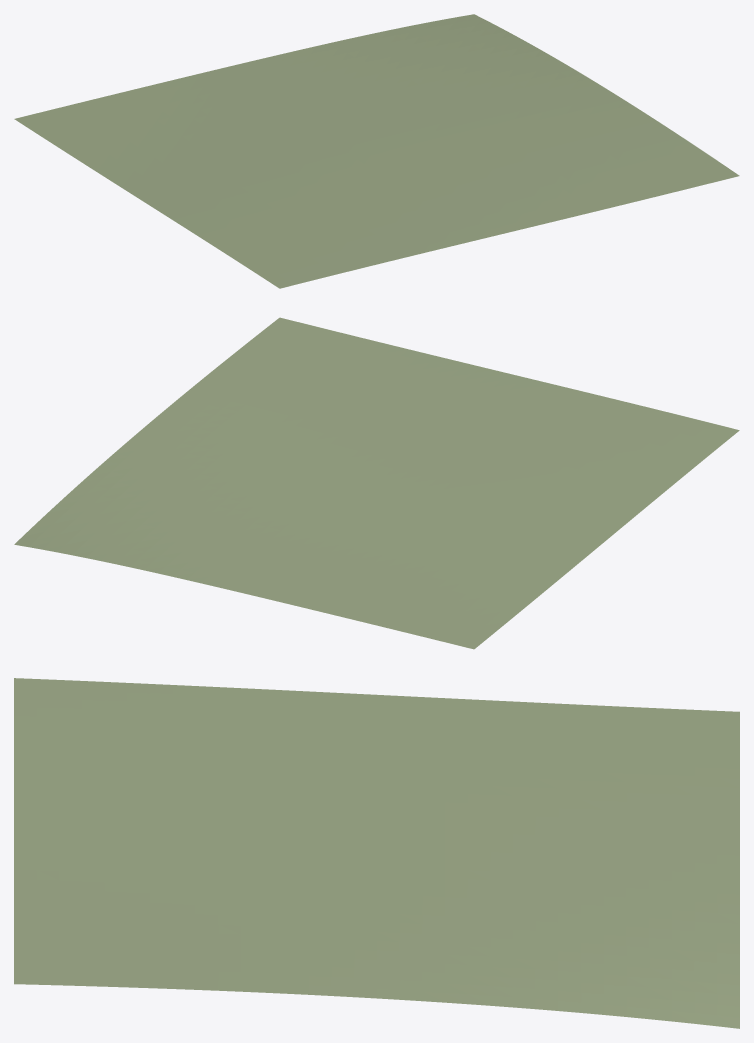
The model's file is expanse-7-10.glb.
3 views of the same model, one above another, from view 1: azimuth 30°, elevation 25°; view 2: azimuth 150°, elevation 25°; view 3: azimuth 270°, elevation 25° (orthographic). The views are drawn at different scales.
Parts seen in each view (by area): view 1: expanse-7-10; view 2: expanse-7-10; view 3: expanse-7-10.
Boxes of the visible parts, <box> form: expanse-7-10: <box>14,14,739,288</box>; expanse-7-10: <box>14,317,739,649</box>; expanse-7-10: <box>14,678,739,1028</box>.
Size of the model in its own units: 256 by 17.4 by 256.
